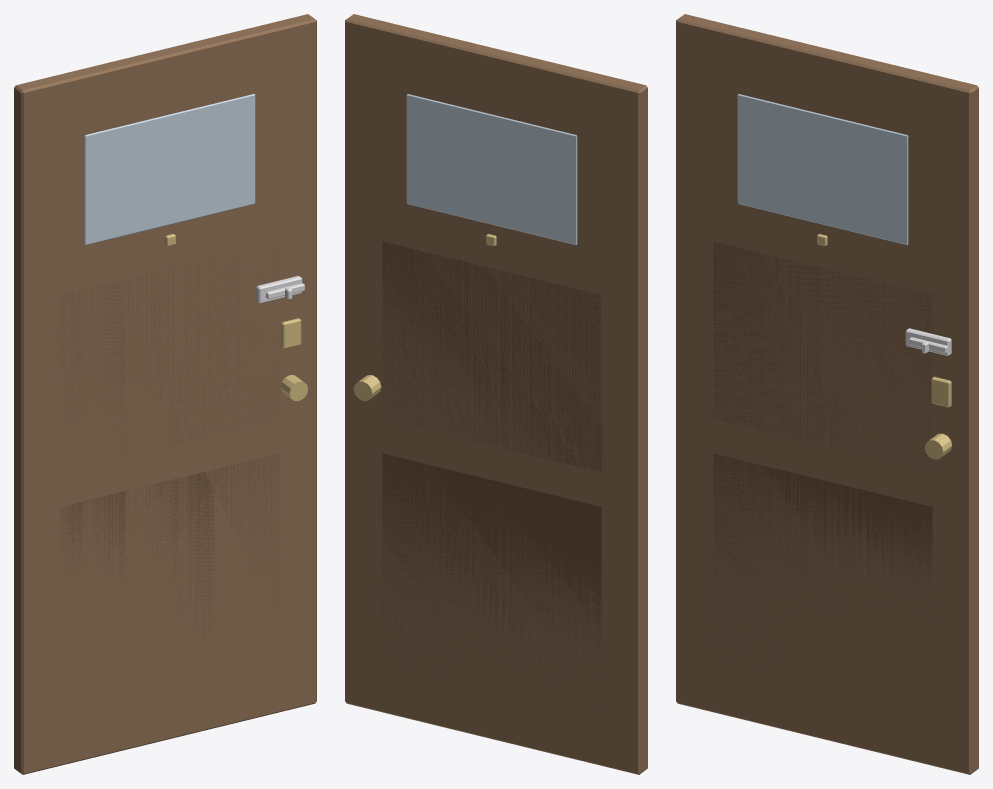
The model's file is front_door.fbx.
The picture shows the model from 3 angles, left to right: view 1: azimuth 30°, elevation 25°; view 2: azimuth 150°, elevation 25°; view 3: azimuth 330°, elevation 25°; orthographic projection.
Parts seen in each view (by area): view 1: Leaf, Handle, BoltBase; view 2: Leaf, Handle; view 3: Leaf, Handle, BoltBase.
Boxes of the visible parts, bbox=[...] form: Leaf: bbox=[14, 14, 316, 774]; Handle: bbox=[280, 318, 308, 401]; BoltBase: bbox=[256, 276, 302, 303]; Leaf: bbox=[345, 14, 647, 774]; Handle: bbox=[353, 375, 381, 401]; Leaf: bbox=[676, 14, 978, 774]; Handle: bbox=[924, 376, 952, 459]; BoltBase: bbox=[905, 328, 951, 355].
Bounding box in the file's own units: 0.95 × 2.1 × 0.155.
